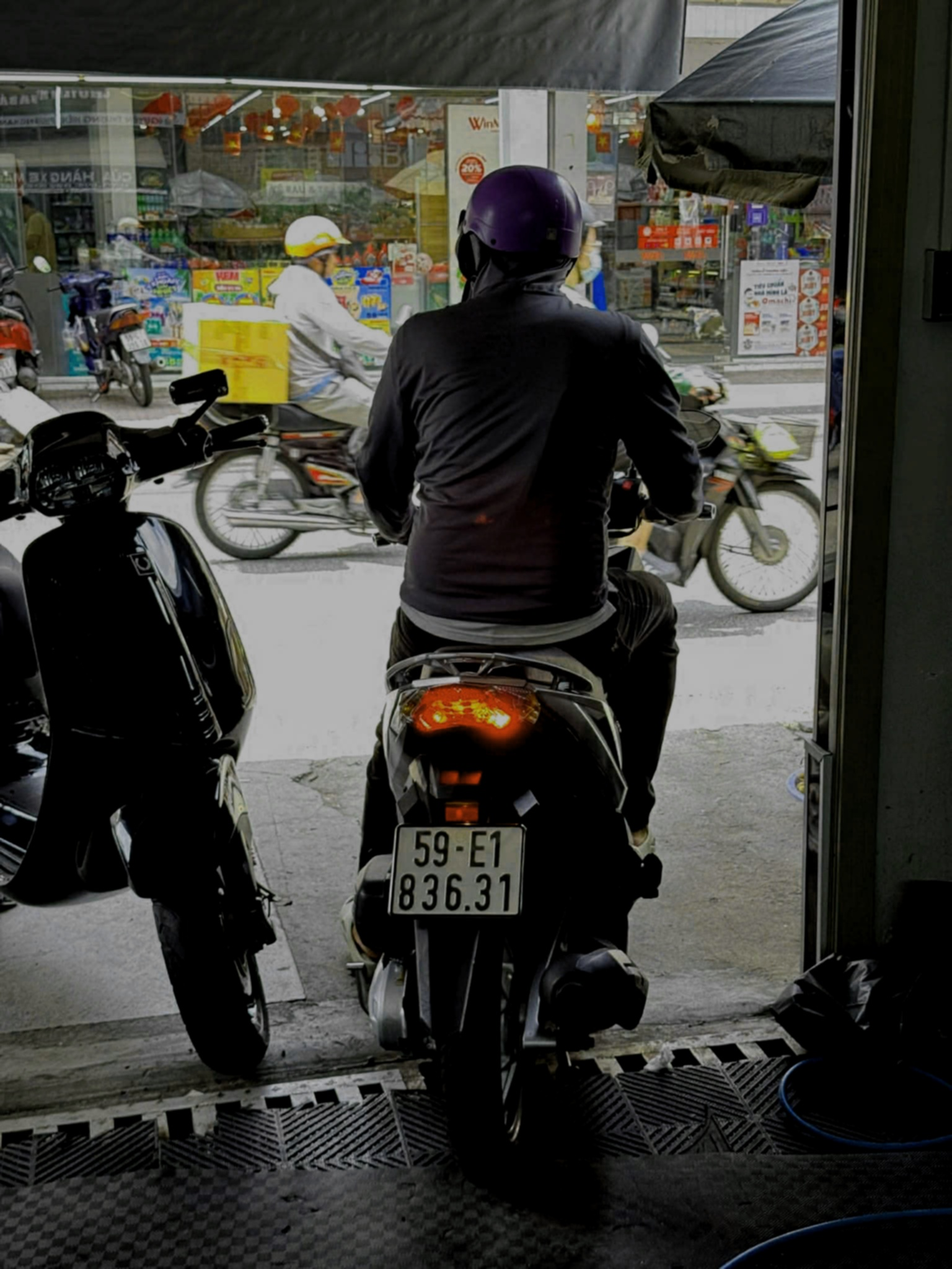Bien-so: (383, 829, 530, 931)
